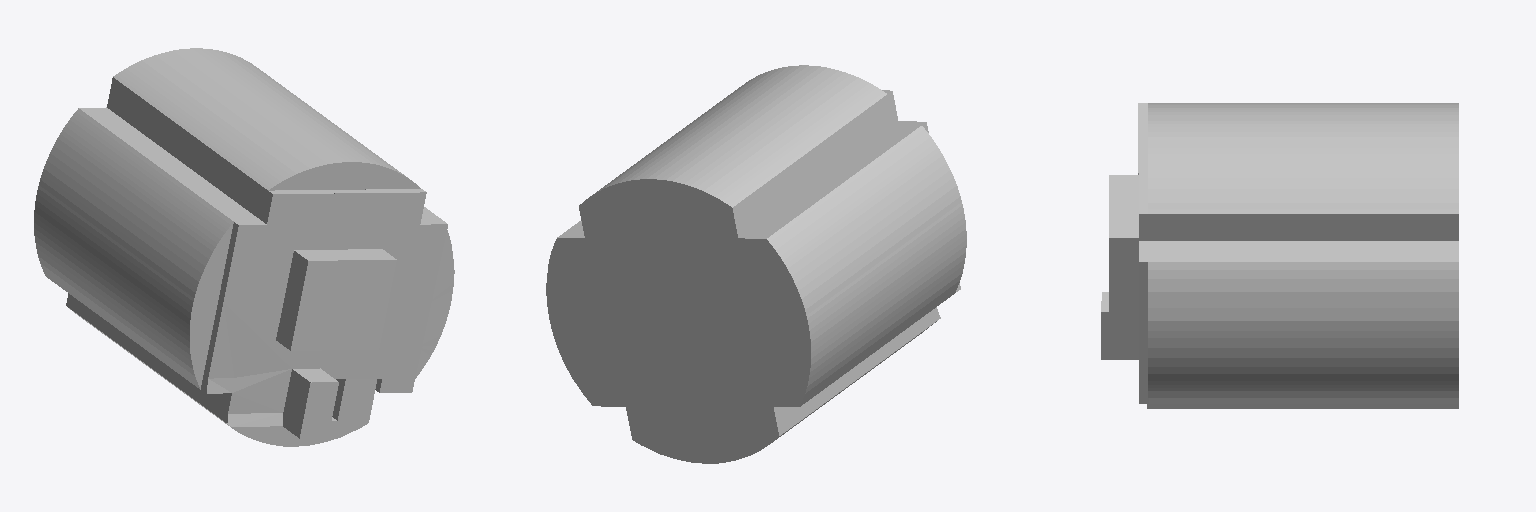
The model's file is talo_Build0000051.obj.
3 views of the same model, side by side, from view 1: azimuth 30°, elevation 25°; view 2: azimuth 150°, elevation 25°; view 3: azimuth 270°, elevation 25° (orthographic).
Size of the model in its own units: 27.33 by 27.28 by 31.91.